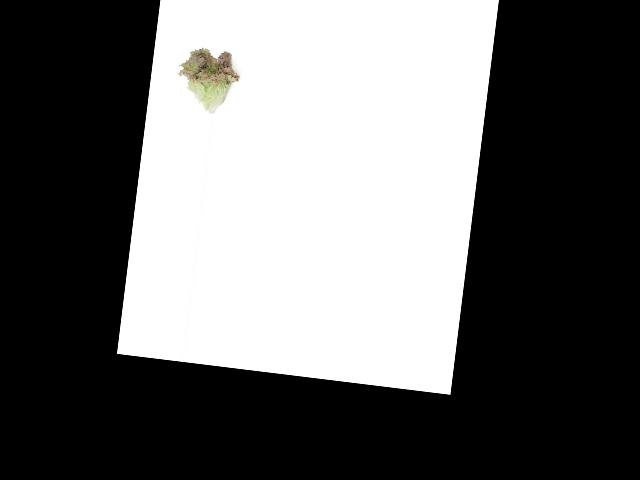lettuce: (171, 36, 249, 118)
